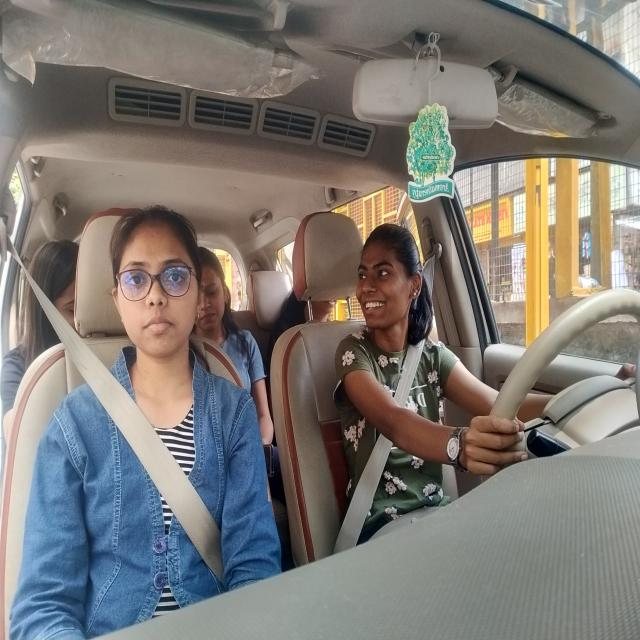LeftRight: (351, 217, 422, 336)
person: (108, 205, 200, 357), (26, 239, 74, 346), (200, 240, 233, 341)
talking: (359, 294, 392, 316)
